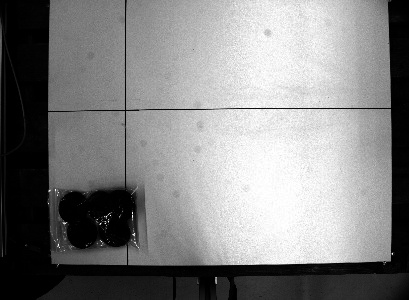t1: (44, 182, 154, 258)
